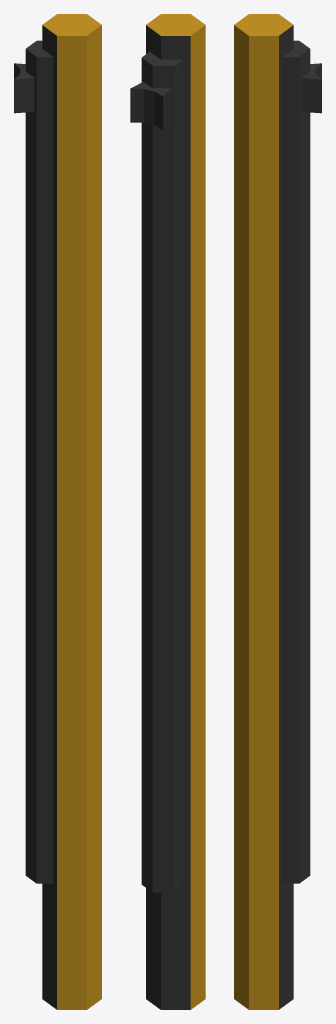
Rendered from Tripod_Light_1.obj.
3 renders of one model, left to right at view 1: azimuth 90°, elevation 25°; view 2: azimuth 150°, elevation 25°; view 3: azimuth 270°, elevation 25°, orthographic.
Visible parts, largest first — view 1: Tripod_Light_1; view 2: Tripod_Light_1; view 3: Tripod_Light_1.
Part boxes in pixels (x1,y1,x2,y2): Tripod_Light_1: (14, 14, 101, 1009); Tripod_Light_1: (130, 14, 205, 1009); Tripod_Light_1: (234, 14, 321, 1009).
Size of the model in its own units: 0.0427 by 0.8863 by 0.0725.
